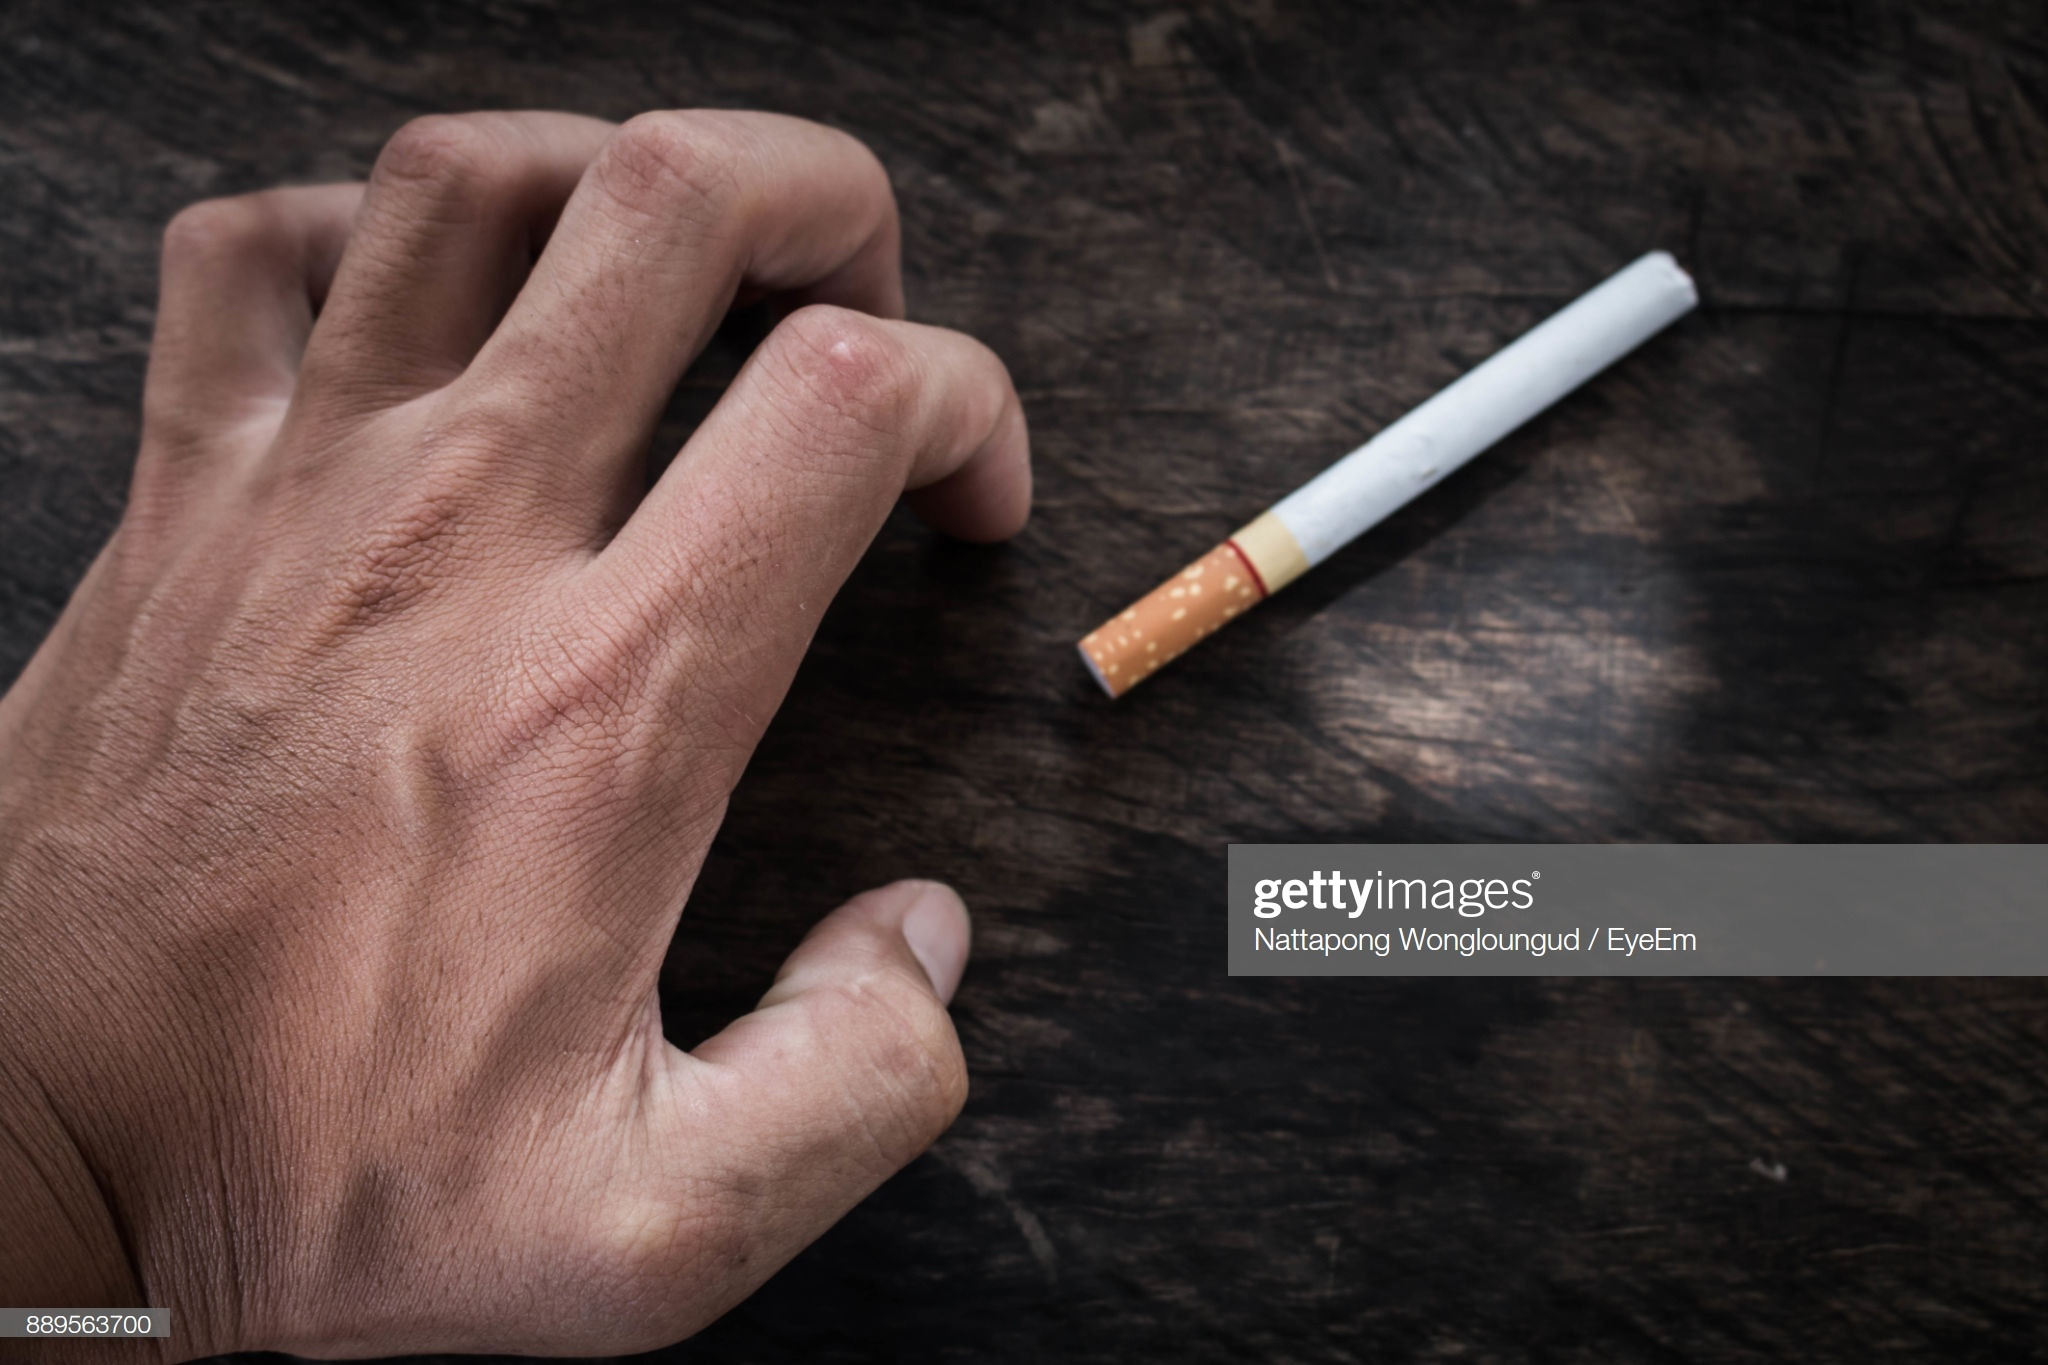sigaretta: (1077, 261, 1699, 693)
